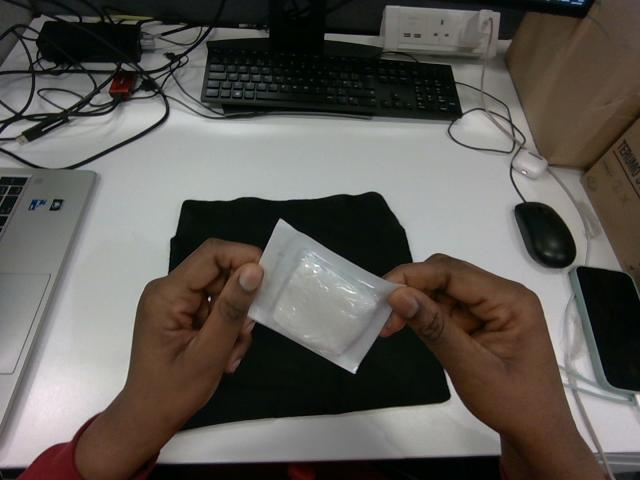gauze: (249, 219, 399, 372)
